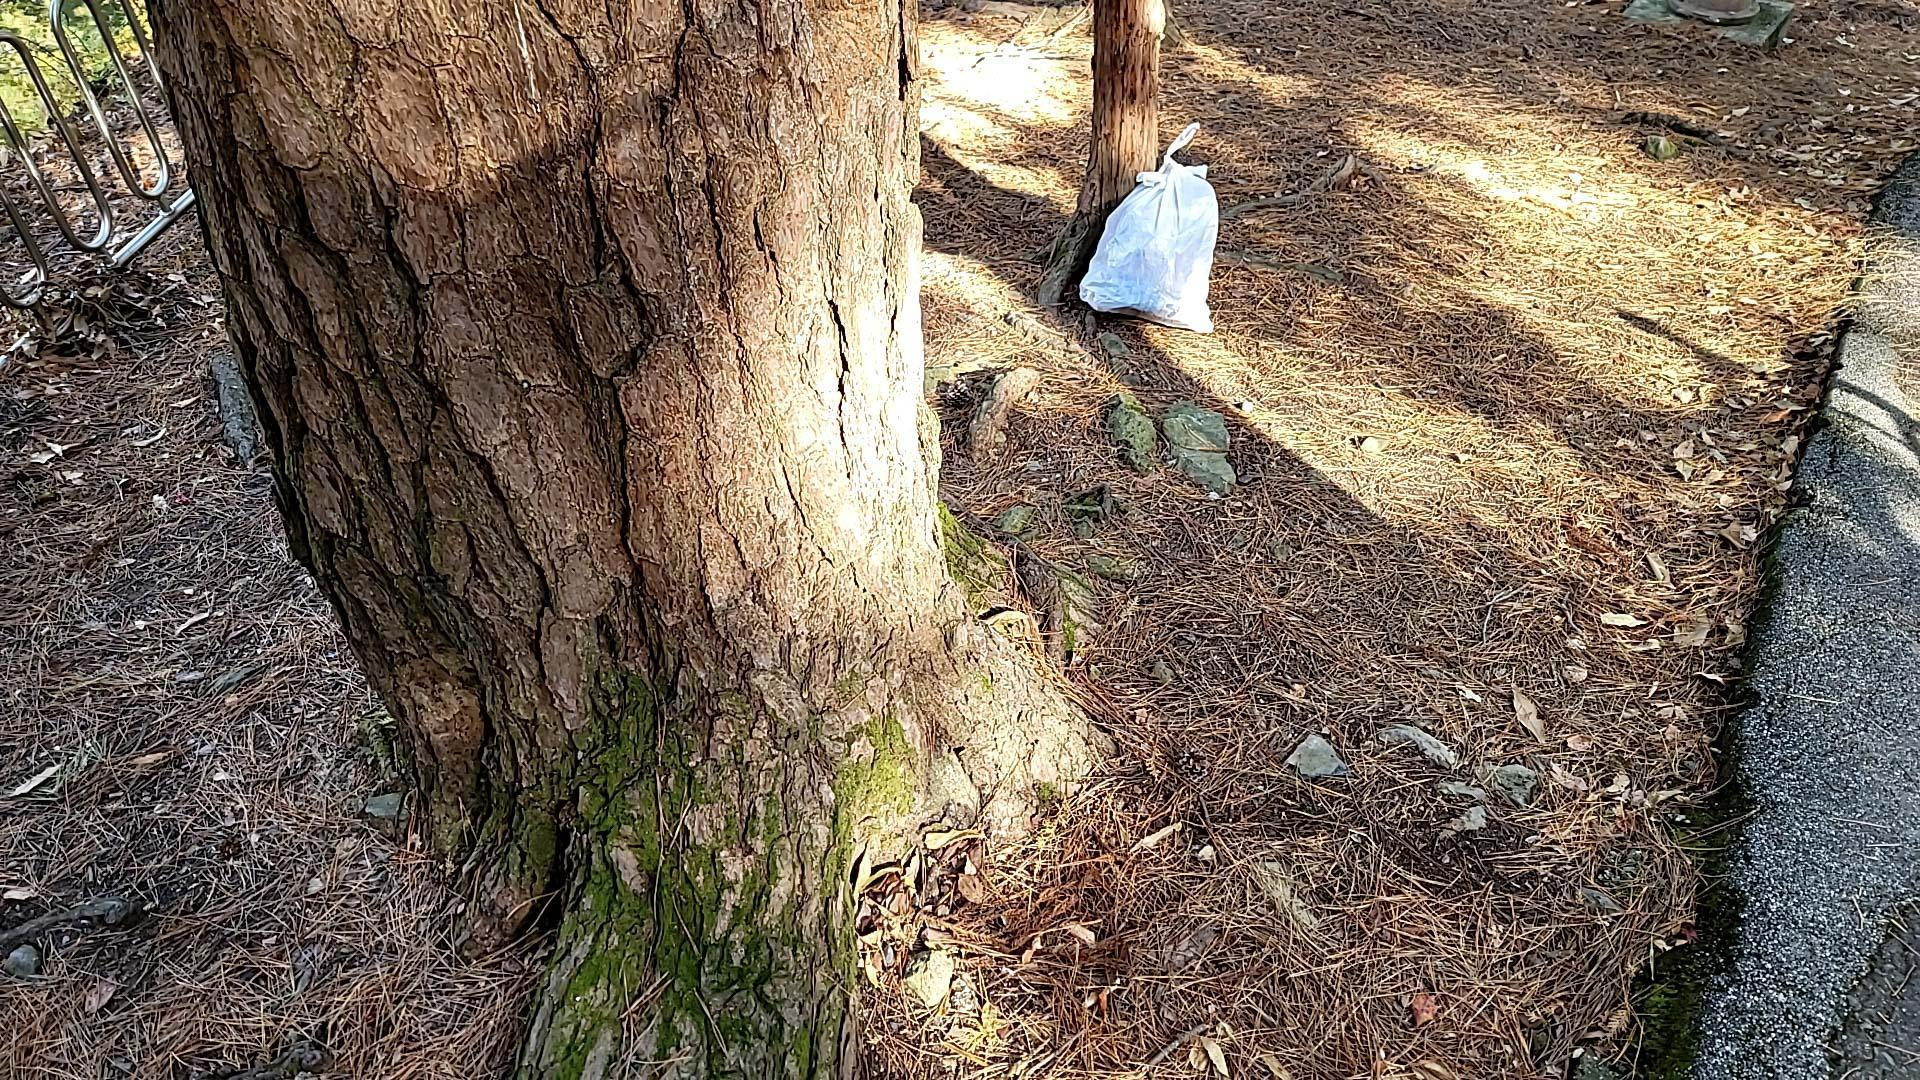white_bag: (1071, 113, 1238, 340)
